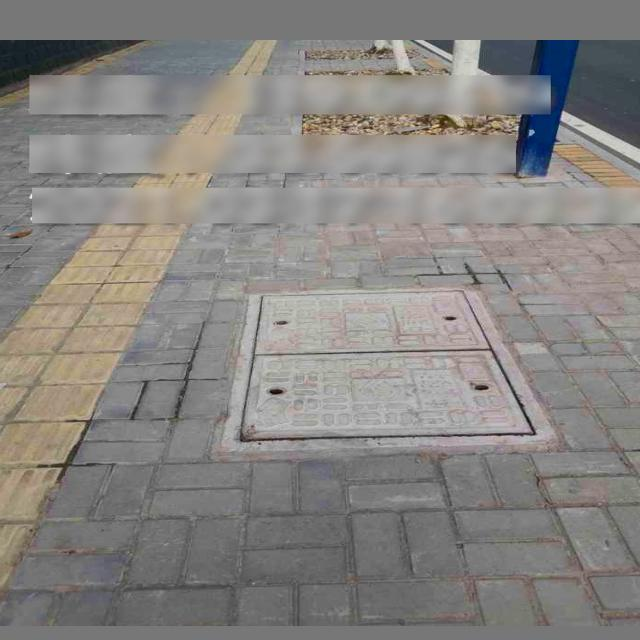good: (220, 285, 561, 448)
